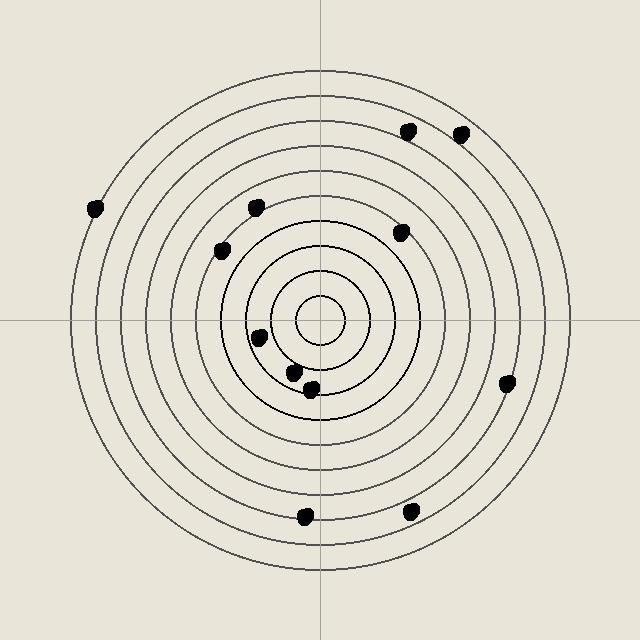random_scatter: (397, 121, 417, 141), (300, 379, 320, 399), (450, 124, 470, 144), (248, 327, 268, 347), (400, 501, 420, 521), (84, 198, 104, 218), (211, 240, 231, 260), (245, 197, 265, 217), (390, 222, 410, 242), (294, 506, 314, 526), (496, 373, 516, 393), (283, 362, 303, 382)
